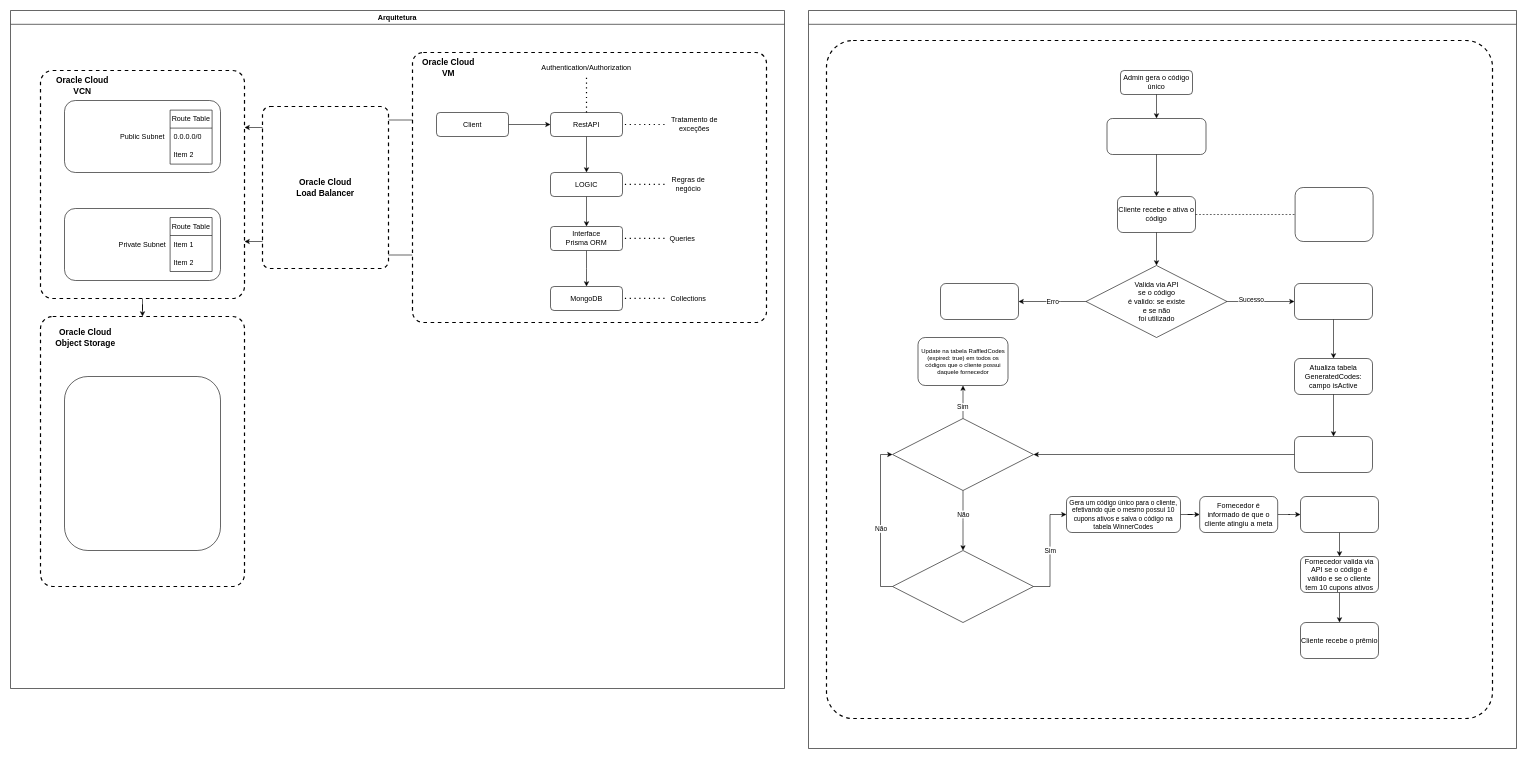
The diagram is 1527 pixels wide and 759 high, and some of its shapes have lost their labels. Each missing label, with the box of its shape:
Avisa ao usuário que o código é inválido e encerra operação.: (940, 283, 1018, 320)
Bucket - Images - Backups: (64, 376, 220, 550)
Cliente envia código ao fornecedor, solicitando o prêmio: (1300, 496, 1378, 532)
Cliente tem 10 códigos ativados?: (892, 550, 1034, 622)
Código é salvo em tabela RaffledCodes e associado ao cliente: (1294, 283, 1372, 320)
Código é salvo na tabela GeneratedCodes MongoDB e associa o ID do fornecedor: (1106, 118, 1206, 154)
Fornecedor recebe informação de que o código foi ativado + data de ativação: (1294, 187, 1373, 242)
Regra de negócio: (808, 10, 1516, 748)
Renova o prazo de expiração para data estipulada pelo fornecedor: (1294, 436, 1372, 472)
Scheduled checa o prazo de expiração do cupom: EXPIROU?: (892, 418, 1034, 490)
